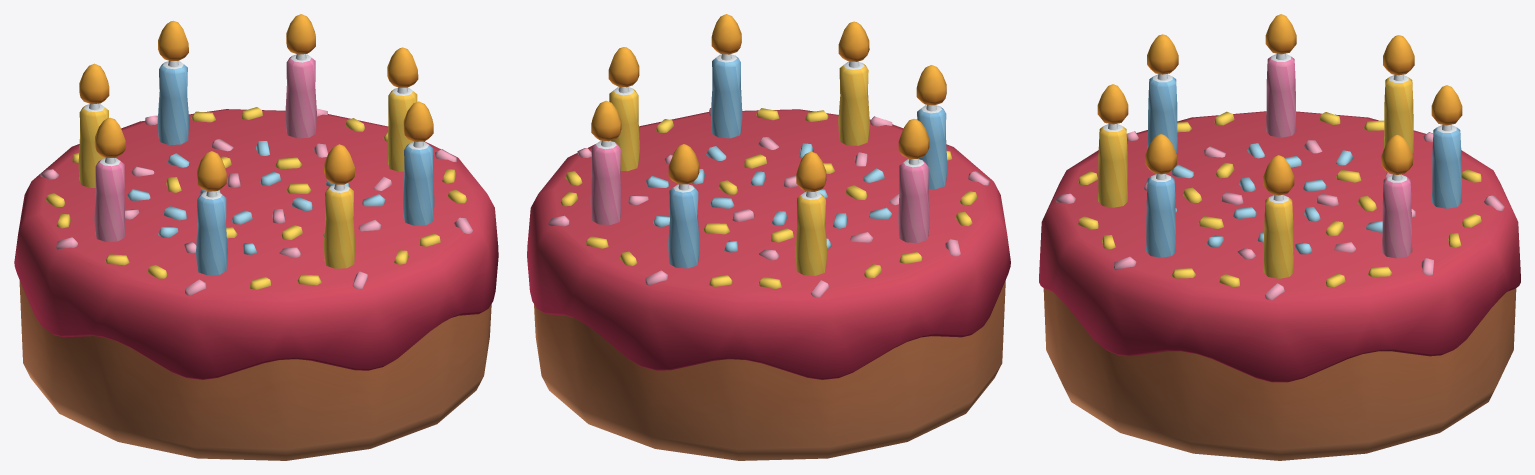
Rendered from cake_birthday_tall.glb.
The picture shows the model from 3 angles, left to right: view 1: azimuth 30°, elevation 25°; view 2: azimuth 150°, elevation 25°; view 3: azimuth 270°, elevation 25°; orthographic projection.
Visible parts, largest first — view 1: cake_birthday, cake_birthday_candle_fire; view 2: cake_birthday, cake_birthday_candle_fire; view 3: cake_birthday, cake_birthday_candle_fire.
Part boxes in pixels (box(x1,y1,x2,y2)): cake_birthday: box(14, 54, 498, 460); cake_birthday_candle_fire: box(79, 14, 433, 191); cake_birthday: box(527, 54, 1010, 460); cake_birthday_candle_fire: box(591, 14, 946, 191); cake_birthday: box(1039, 53, 1520, 460); cake_birthday_candle_fire: box(1097, 14, 1462, 195).
Size of the model in its own units: 0.32 by 0.2104 by 0.32.
1 material, 1 textured.
